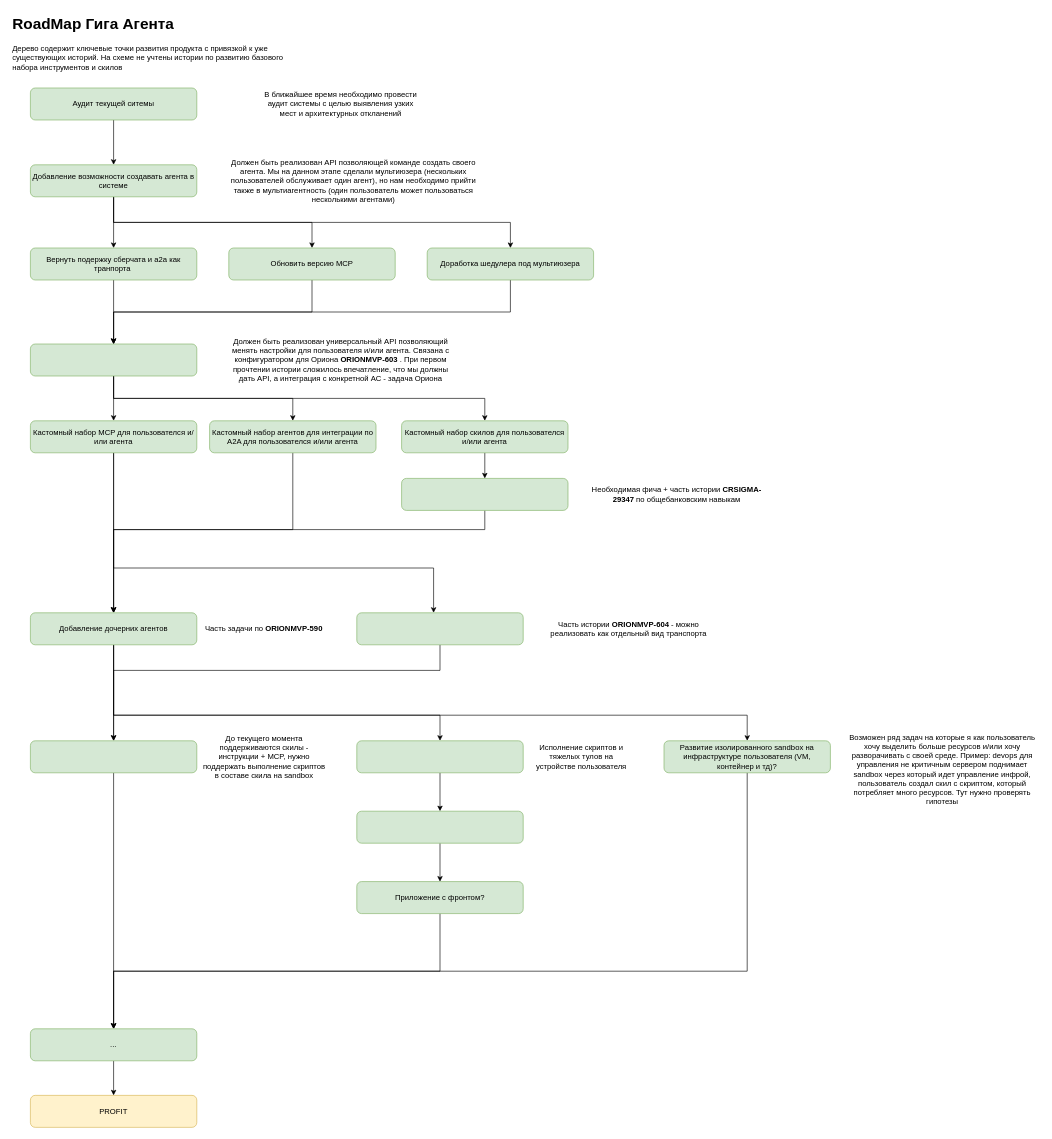
Image size: 1052x1139. Some labels were removed from this diagram. Here are the shapes that lost their labels. From the top down, the box of each, then its label:
(30, 343, 197, 376): Реализация настроек для мультиюзера
(401, 478, 568, 510): Добавить возможность добавления различных провайдеров скилов
(356, 612, 523, 645): Добавление web хуков и/или реакция на события
(30, 740, 197, 773): Развитие своего sandbox с выполнением скриптов созданных в скилах
(356, 740, 523, 773): Развитие изолированного sandbox на личном устройстве пользователя
(356, 811, 523, 843): Эволюция тулов и скилов на устройстве пользователя
